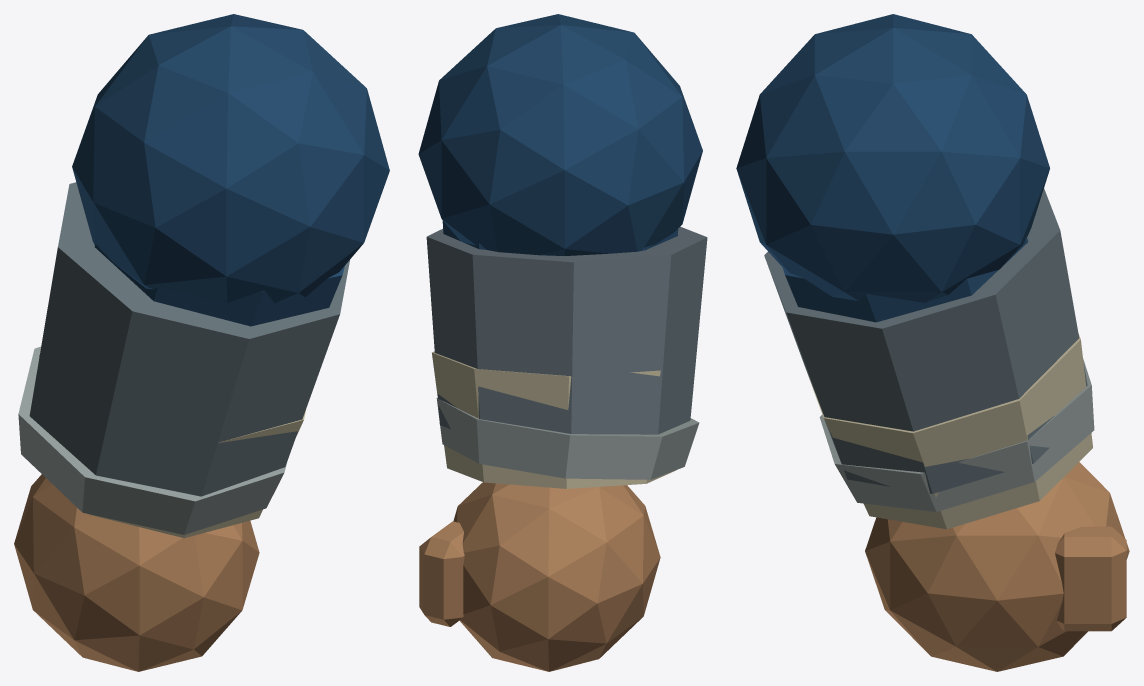
File: ForearmLeft.glb
The picture shows the model from 3 angles, left to right: view 1: azimuth 30°, elevation 25°; view 2: azimuth 150°, elevation 25°; view 3: azimuth 270°, elevation 25°; orthographic projection. The views are drawn at different scales.
Visible parts, largest first — view 1: Sculpture; view 2: Sculpture; view 3: Sculpture.
Part boxes in pixels (x1,y1,x2,y2): Sculpture: (14, 14, 389, 671); Sculpture: (418, 14, 707, 671); Sculpture: (736, 14, 1129, 671).
Size of the model in its own units: 0.1813 by 0.382 by 0.208.
